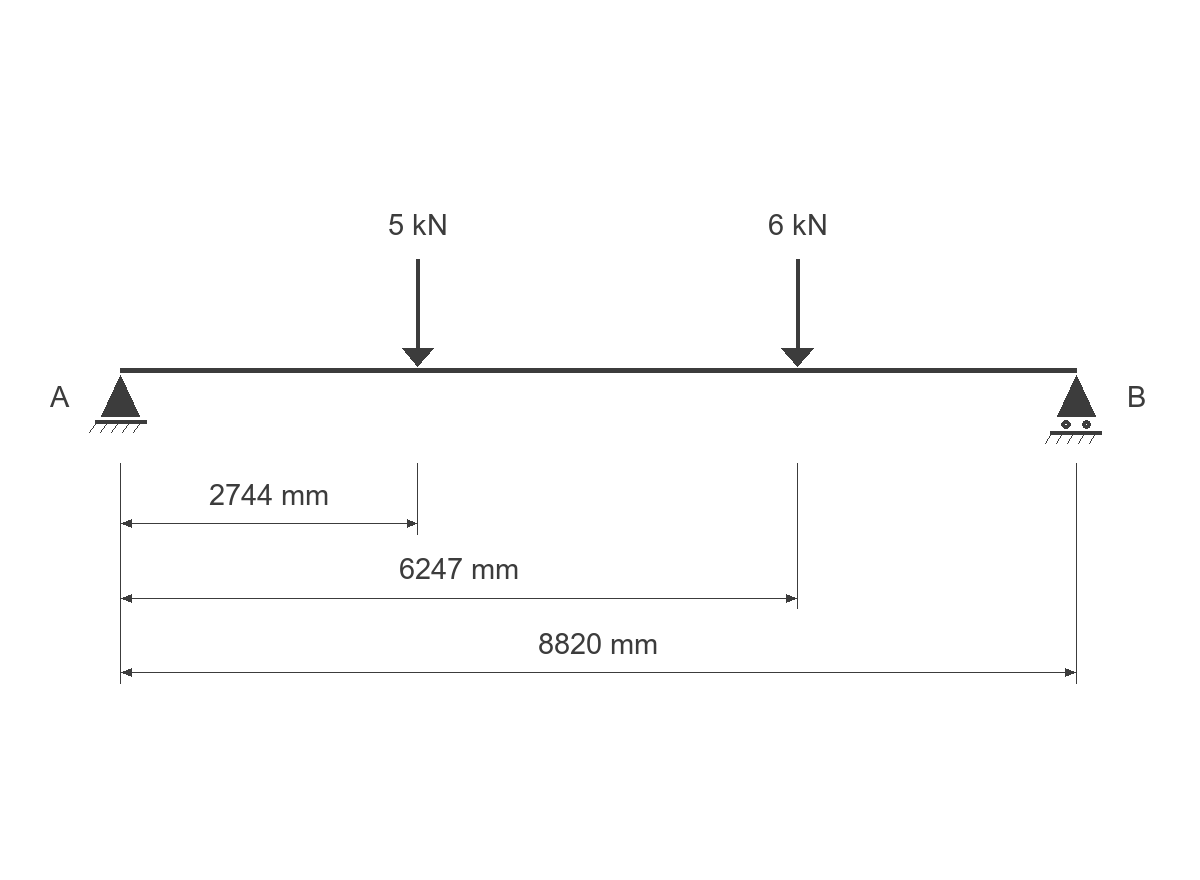pin_support: (89, 375, 147, 433)
point_load: (781, 259, 814, 367), (402, 259, 434, 367)
roller_support: (1045, 375, 1102, 444)
